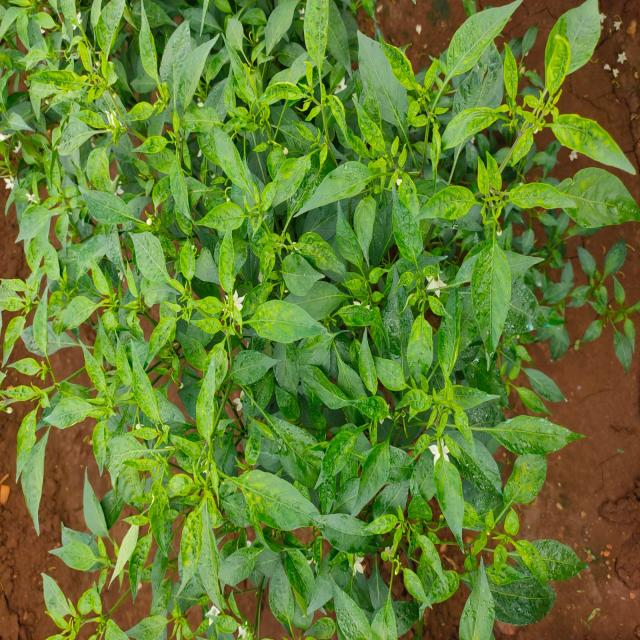Moko: (348, 388, 604, 618), (304, 184, 558, 402), (0, 232, 187, 525), (430, 0, 636, 223), (148, 324, 313, 595), (237, 0, 478, 182), (0, 0, 216, 185), (153, 211, 298, 408), (25, 488, 185, 640)
